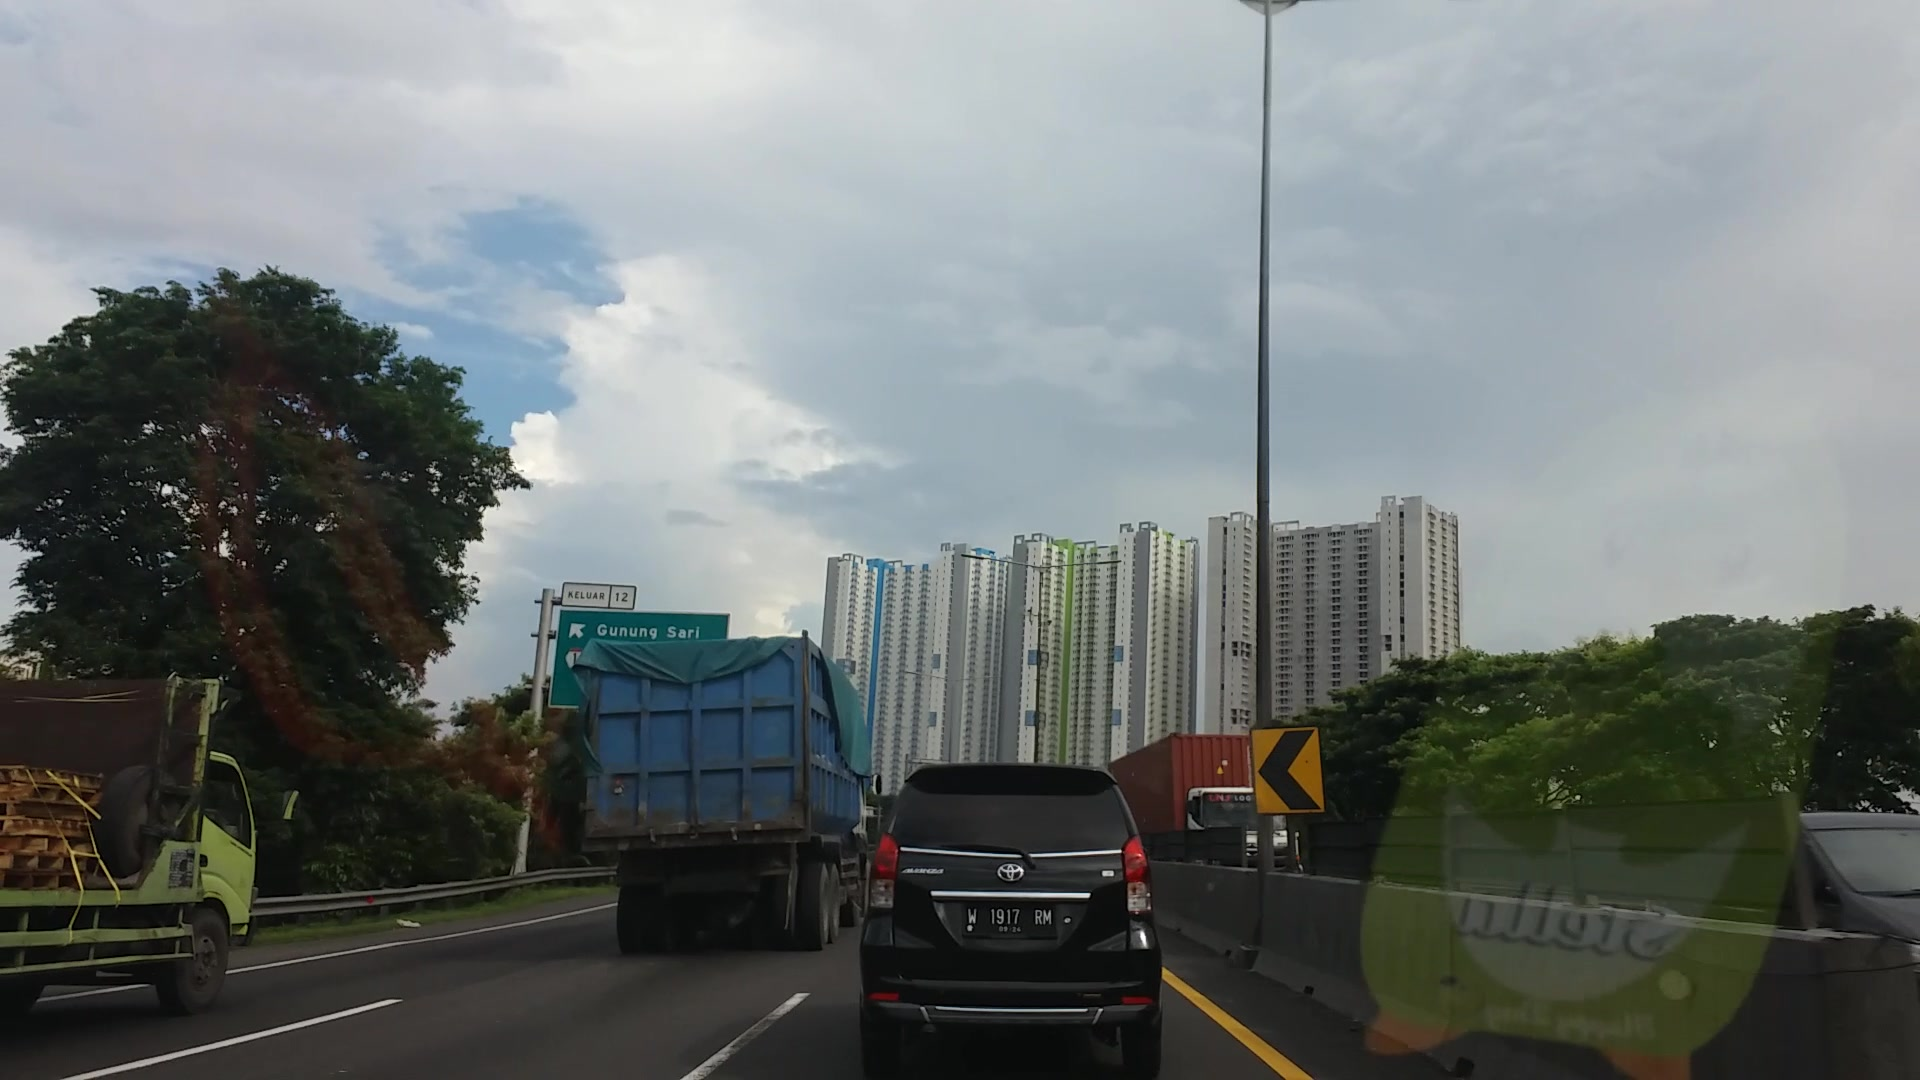plate_positive: (964, 903, 1054, 935)
